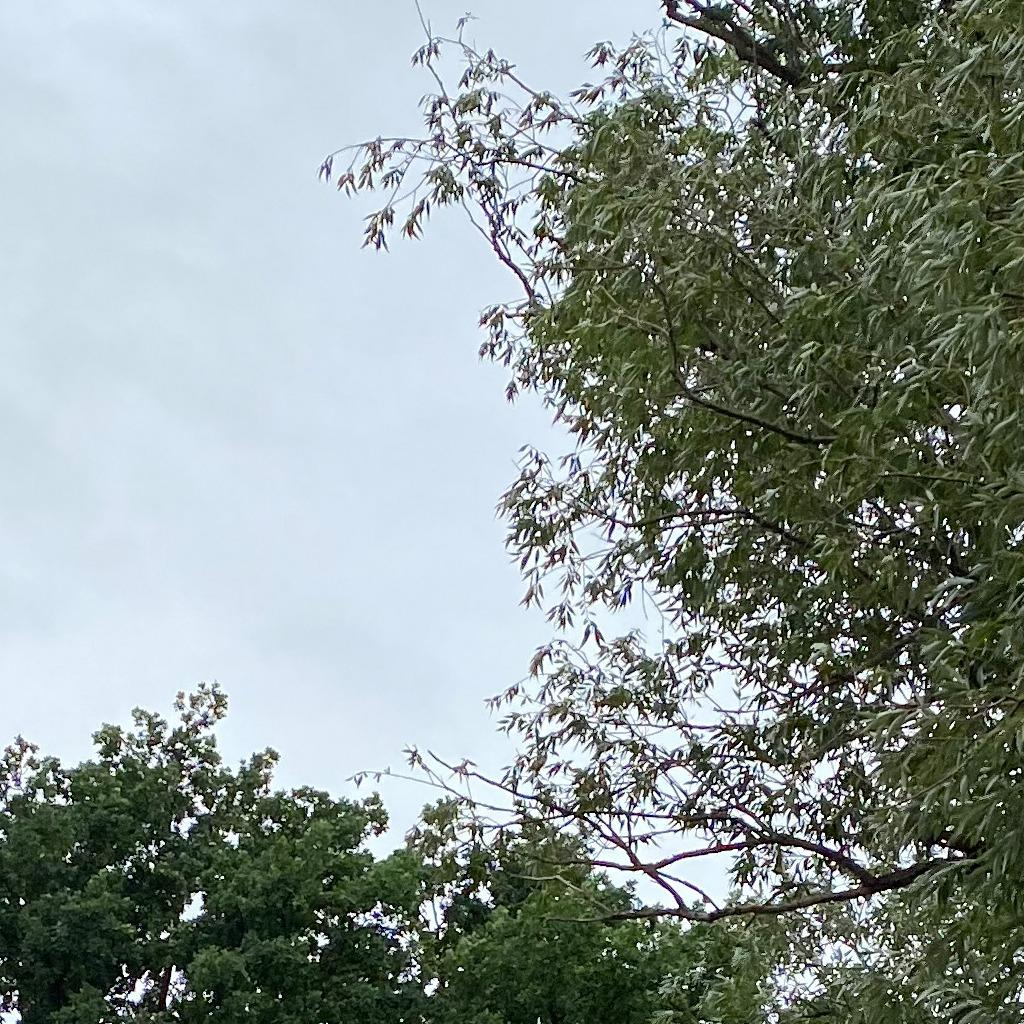tree: (315, 1, 1023, 1023), (1, 677, 736, 1024)
